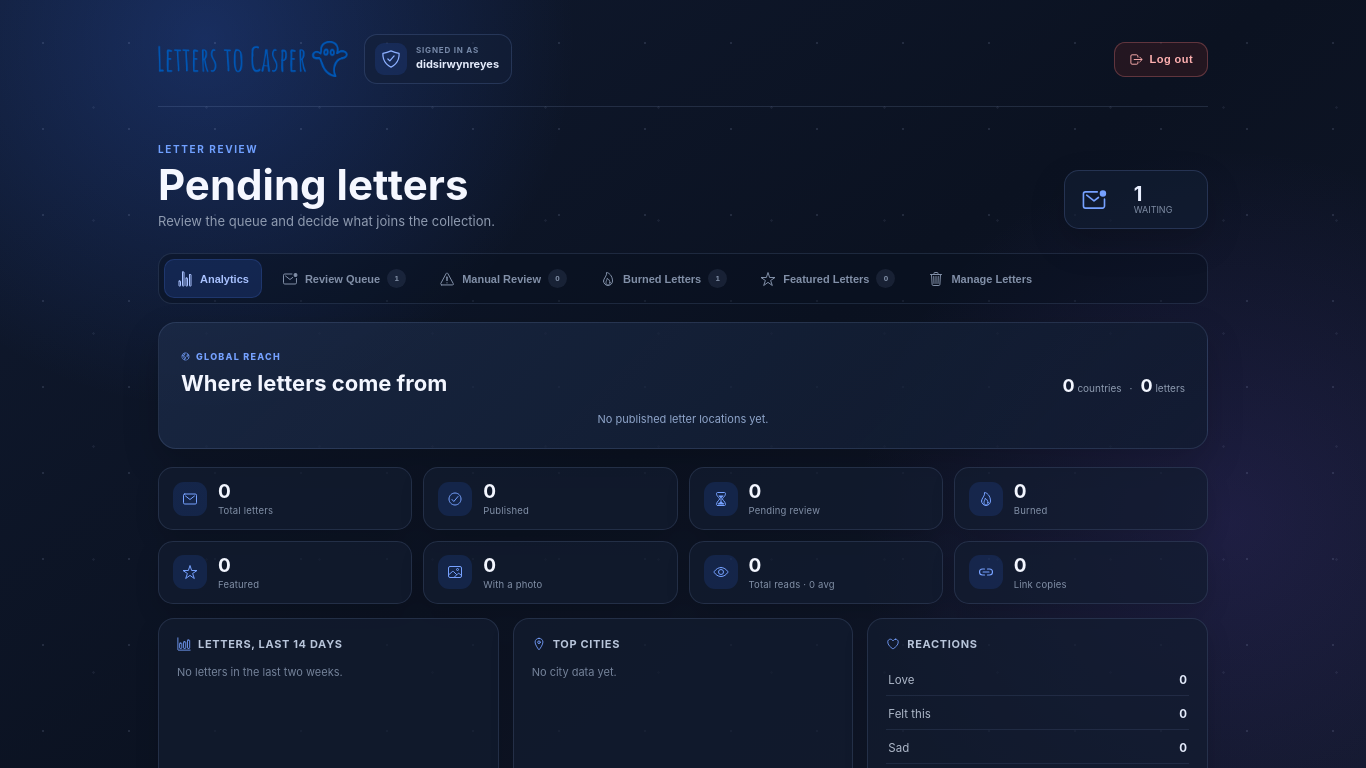
keeps burned letters and displays the error when permanent deletion fails
Click the button "Review Queue 1".
click(344, 279)  # box [269, 259, 419, 298]
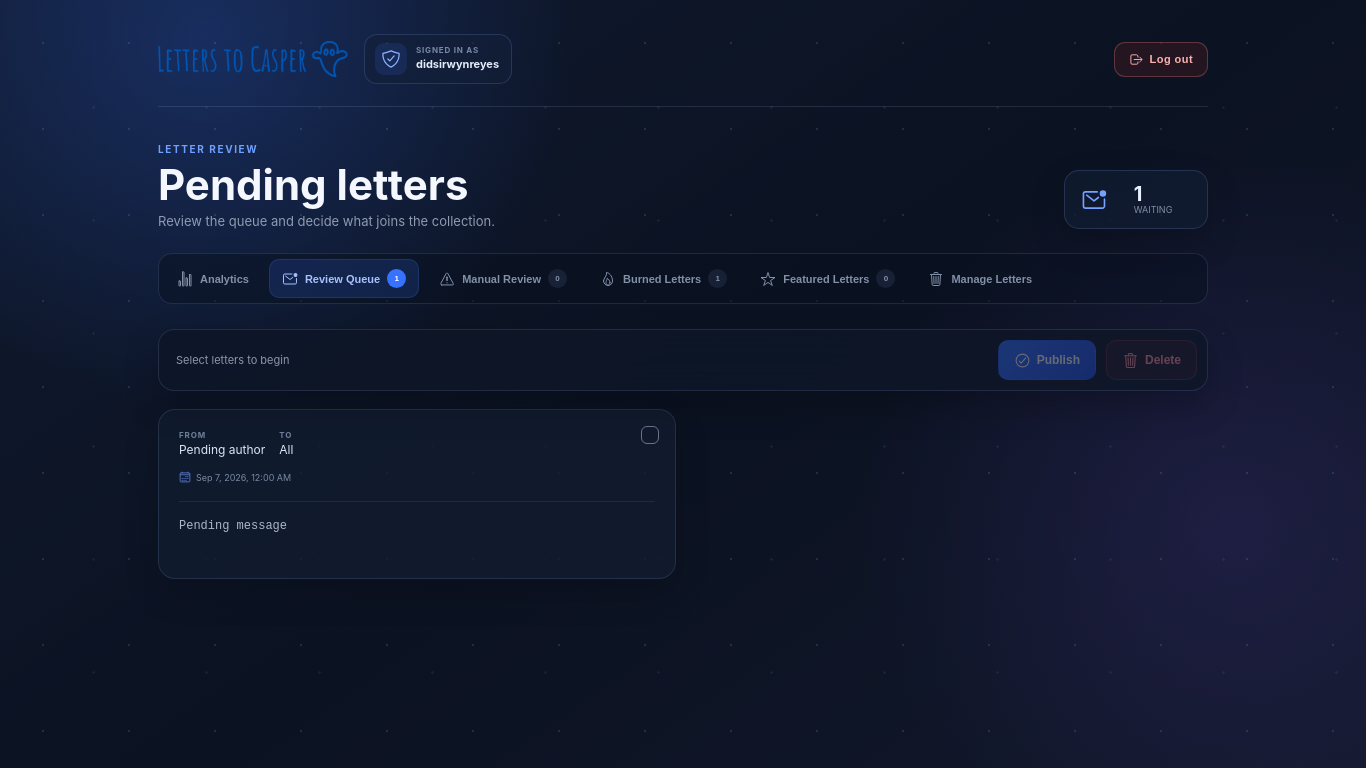
Result: the text "Pending message" is shown at [179, 501, 655, 537]
Click the button "Burned Letters 1".
click(664, 279)  # box [587, 259, 740, 298]
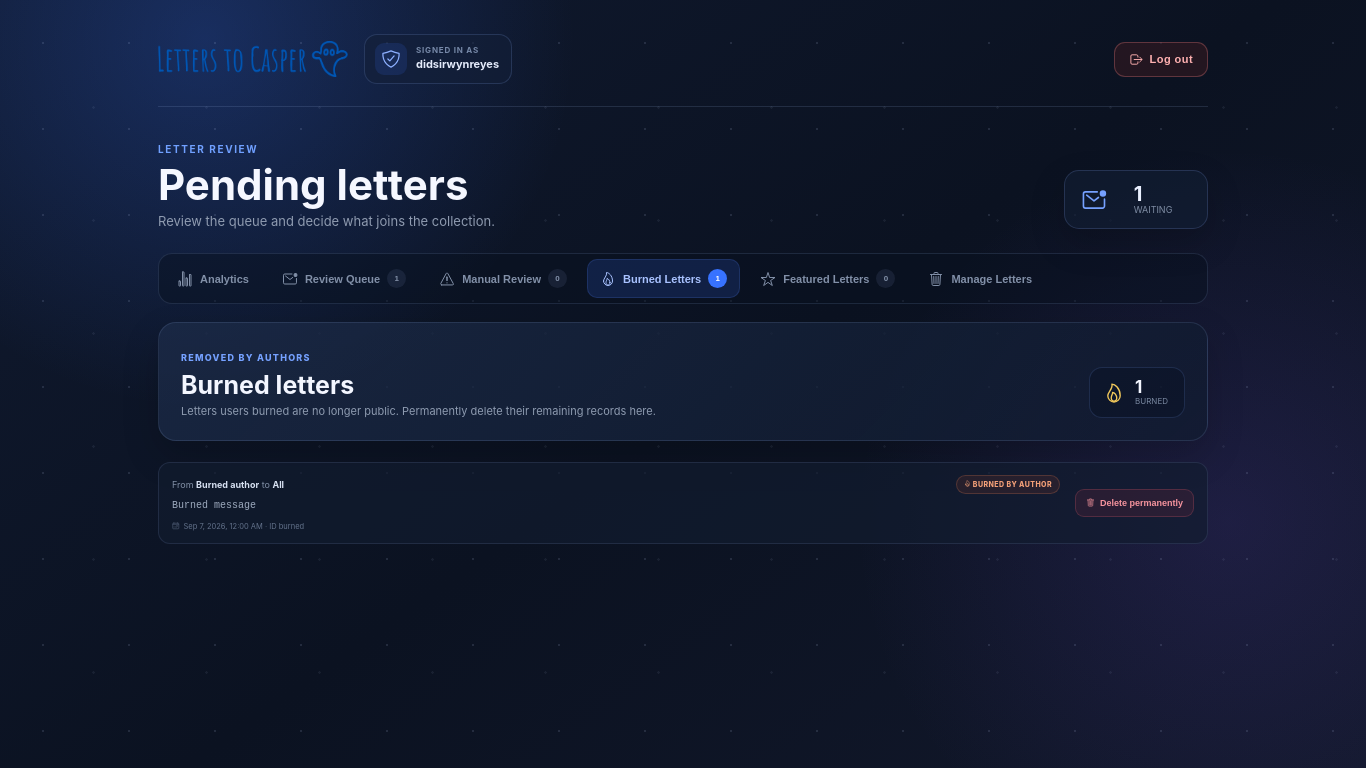
Click the button "Delete permanently".
click(1134, 503)  # box [1075, 489, 1194, 517]
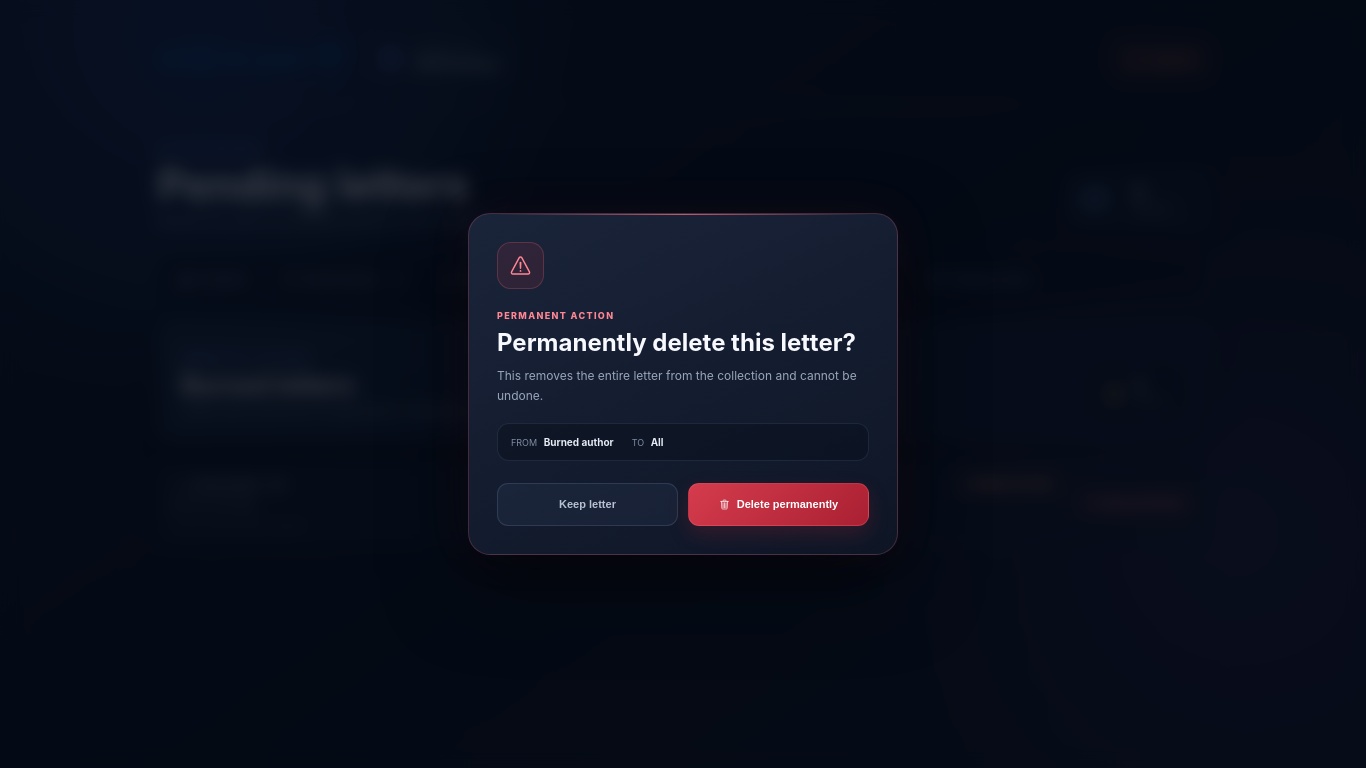
Click the button "Delete permanently".
click(778, 504)  # box [688, 483, 869, 526]
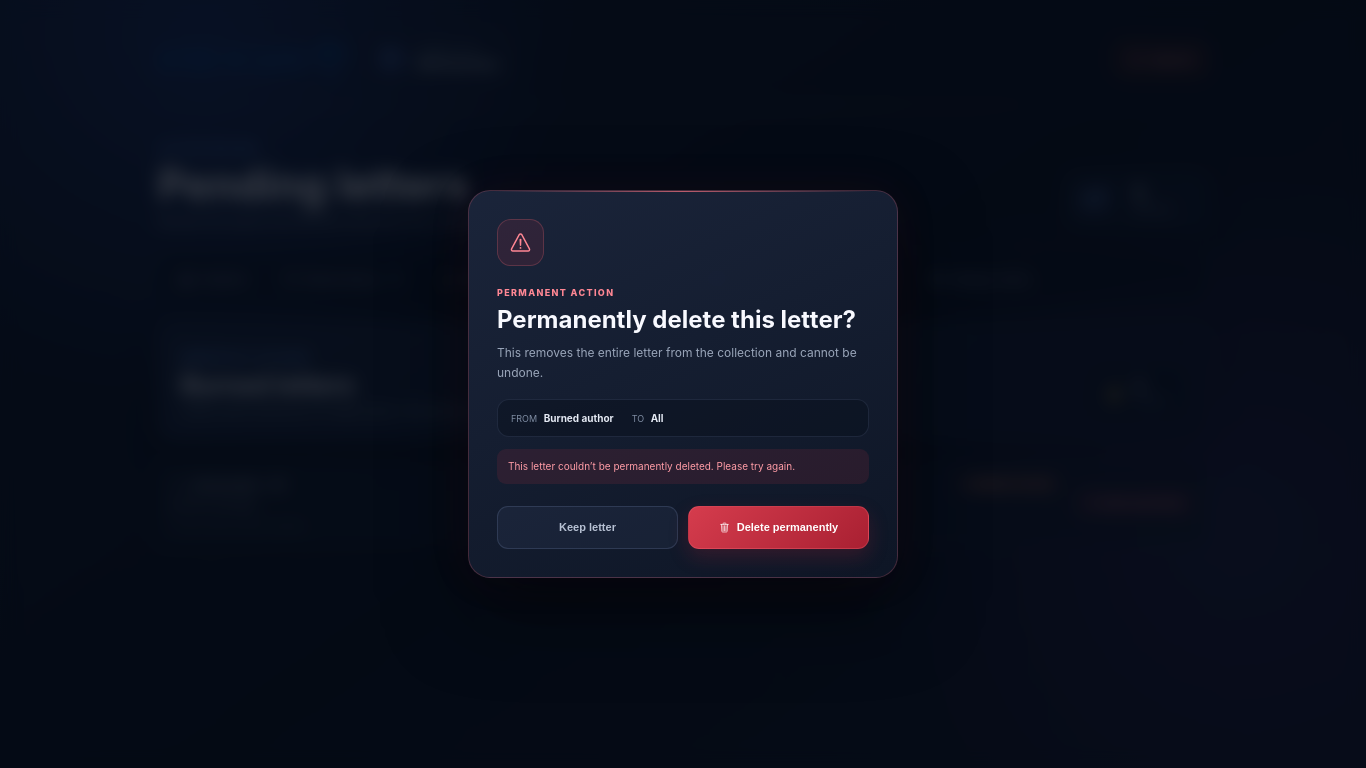
Result: the message shows "couldn’t be permanently deleted" at [508, 460, 795, 472]
